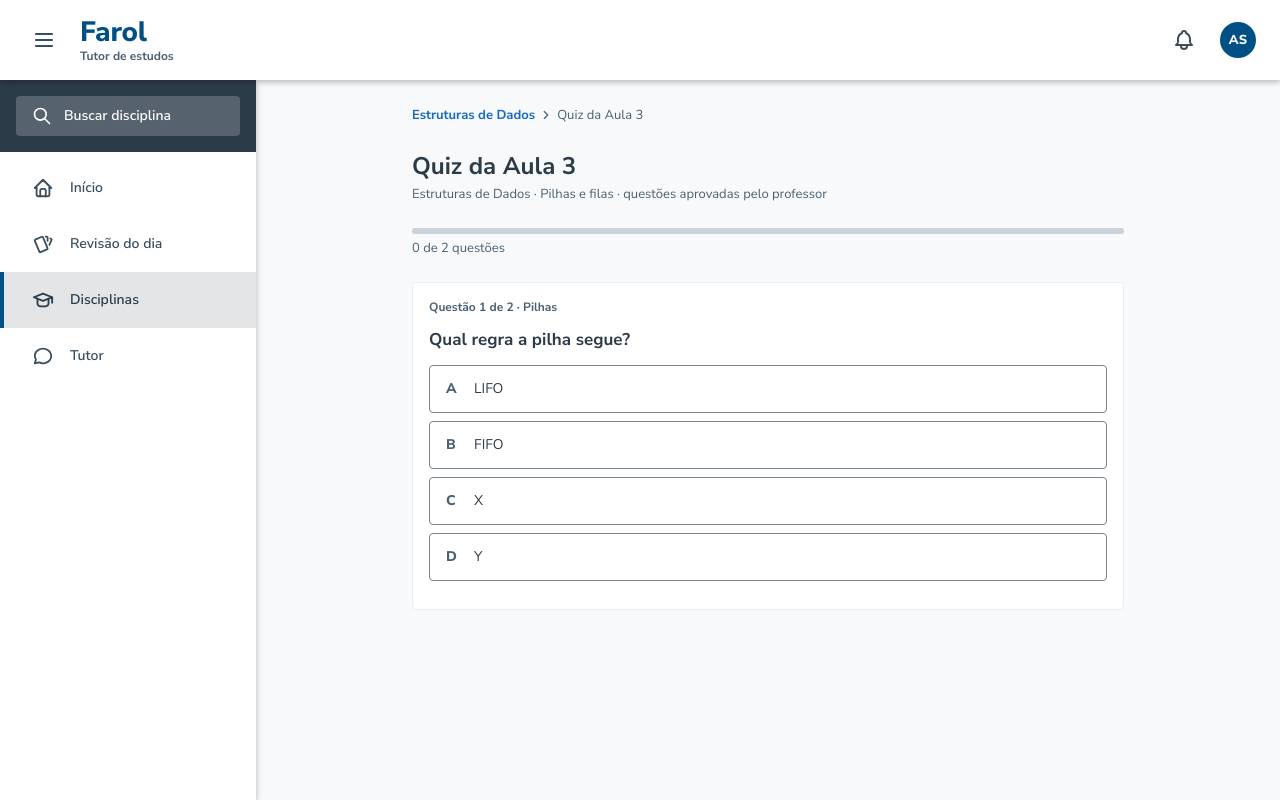
quiz da aula para o aluno (QUE-T42) › no fim mostra os acertos e os tópicos para revisar com o tutor
Click the button with aria-label "A: LIFO" at {"x": 451, "y": 388}, box top-left (429, 365), bottom-right (1107, 413)
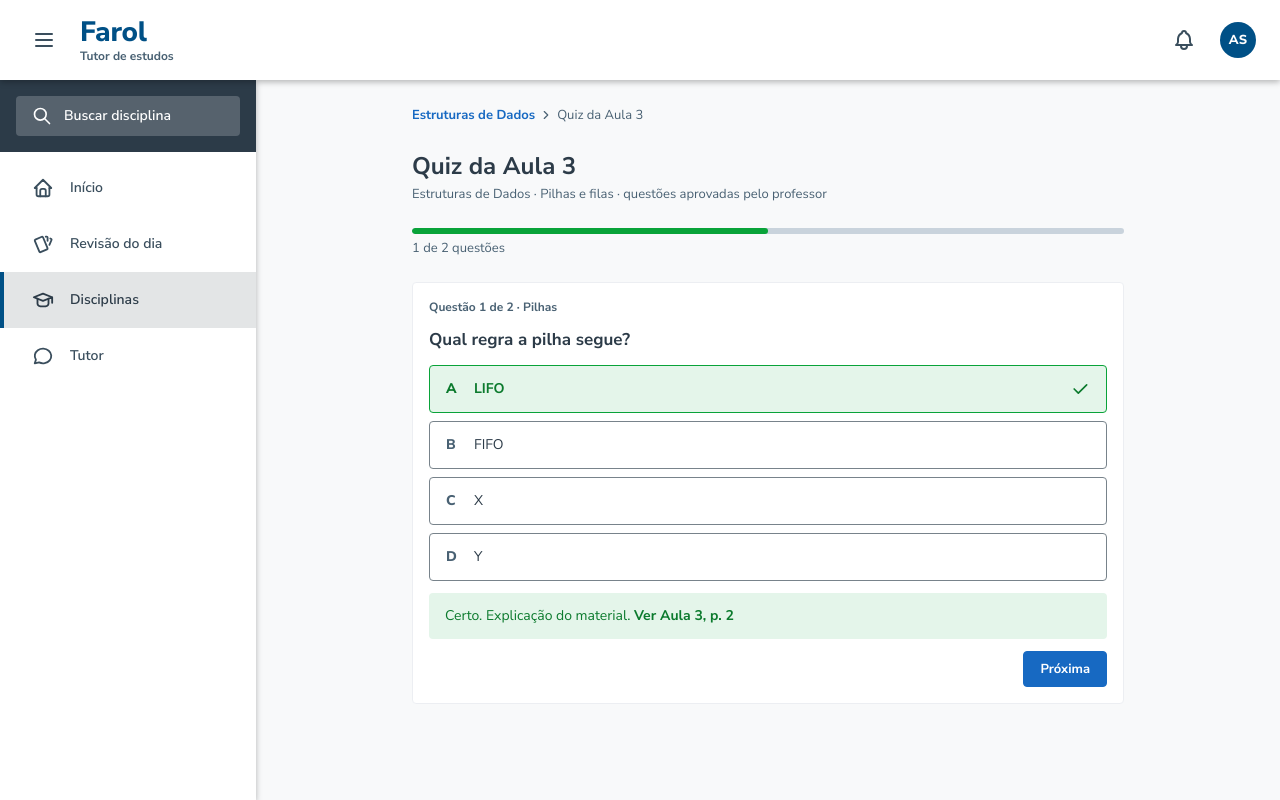
Click the button "Próxima" at {"x": 1065, "y": 669}, box top-left (1023, 651), bottom-right (1107, 687)
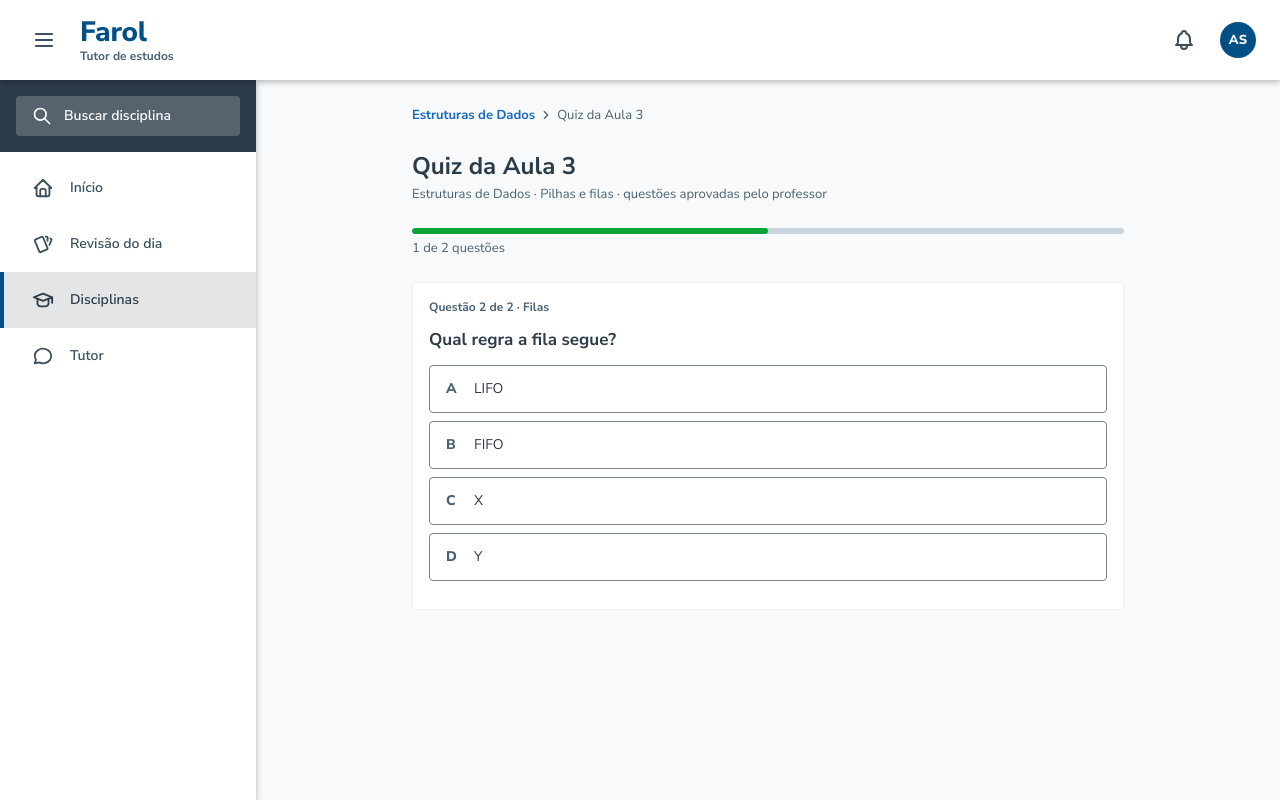
Click the button with aria-label "A: LIFO" at {"x": 451, "y": 388}, box top-left (429, 365), bottom-right (1107, 413)
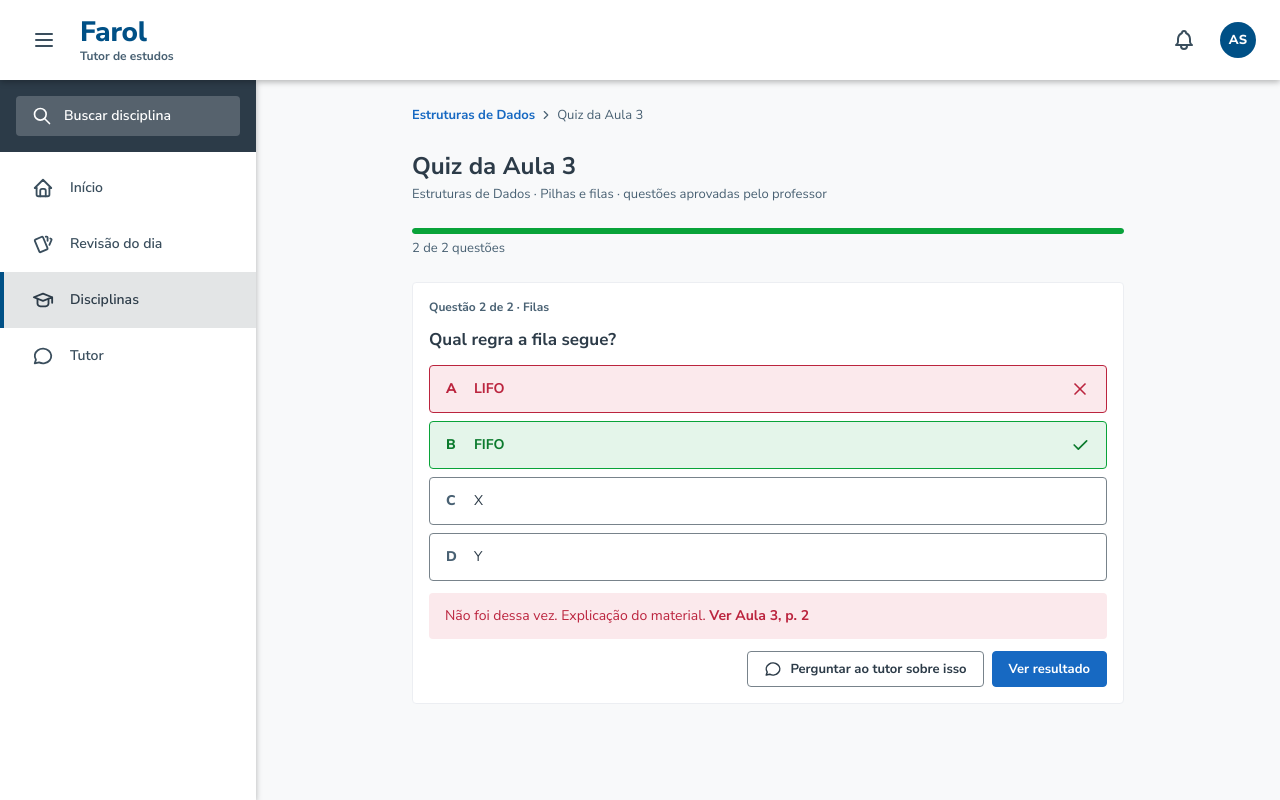
Click the button "Ver resultado" at {"x": 1049, "y": 669}, box top-left (992, 651), bottom-right (1107, 687)
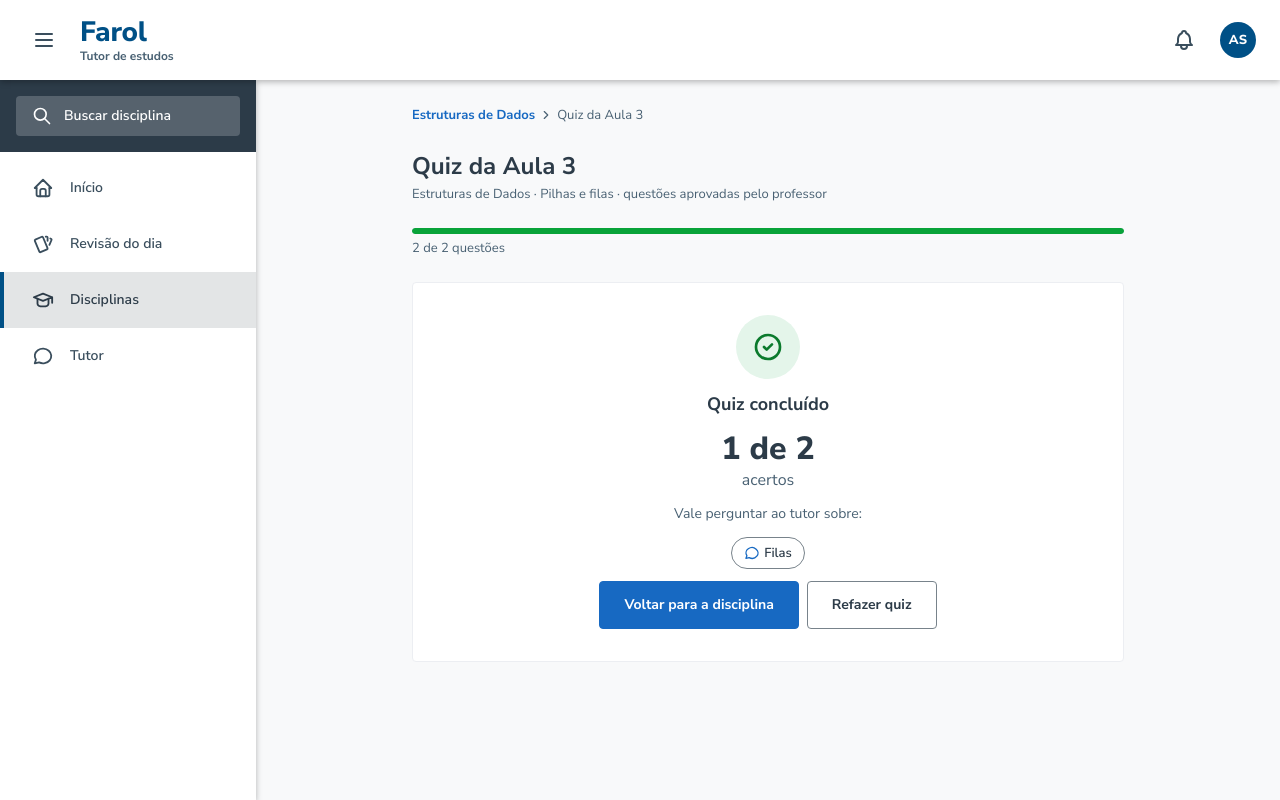
Result: the link "Filas" is shown at top-left (731, 537), bottom-right (805, 569)
Result: the heading "Quiz concluído" is shown at top-left (707, 391), bottom-right (829, 417)
Result: the text "1 de 2" is shown at top-left (721, 429), bottom-right (815, 469)
